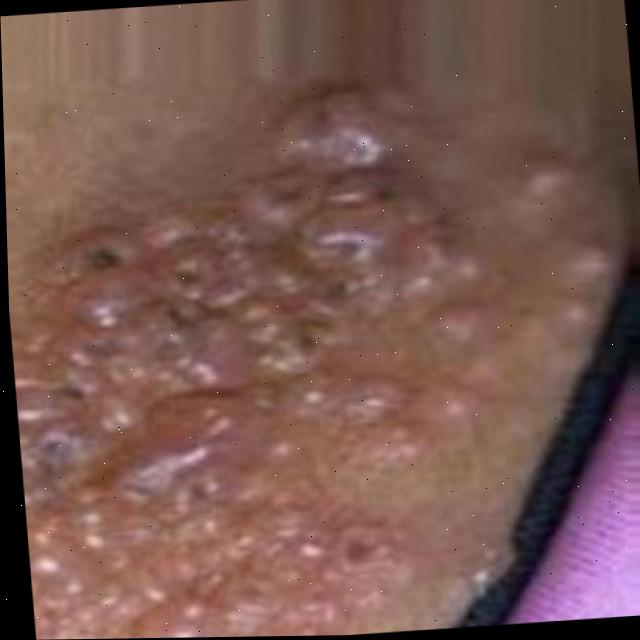Shingles: (2, 73, 611, 640)
